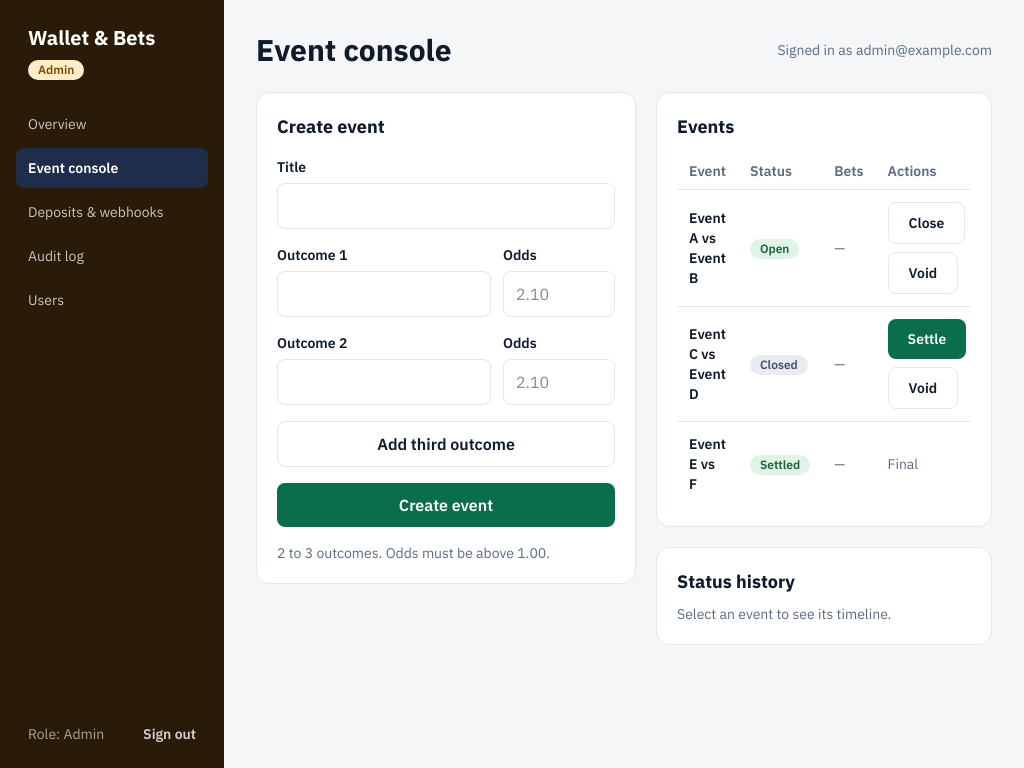
Event console: create event › can remove the third outcome again
The image size is (1024, 768).
Step 1. Click the button "Add third outcome" → click(446, 444), box x1=277 y1=421 x2=615 y2=467
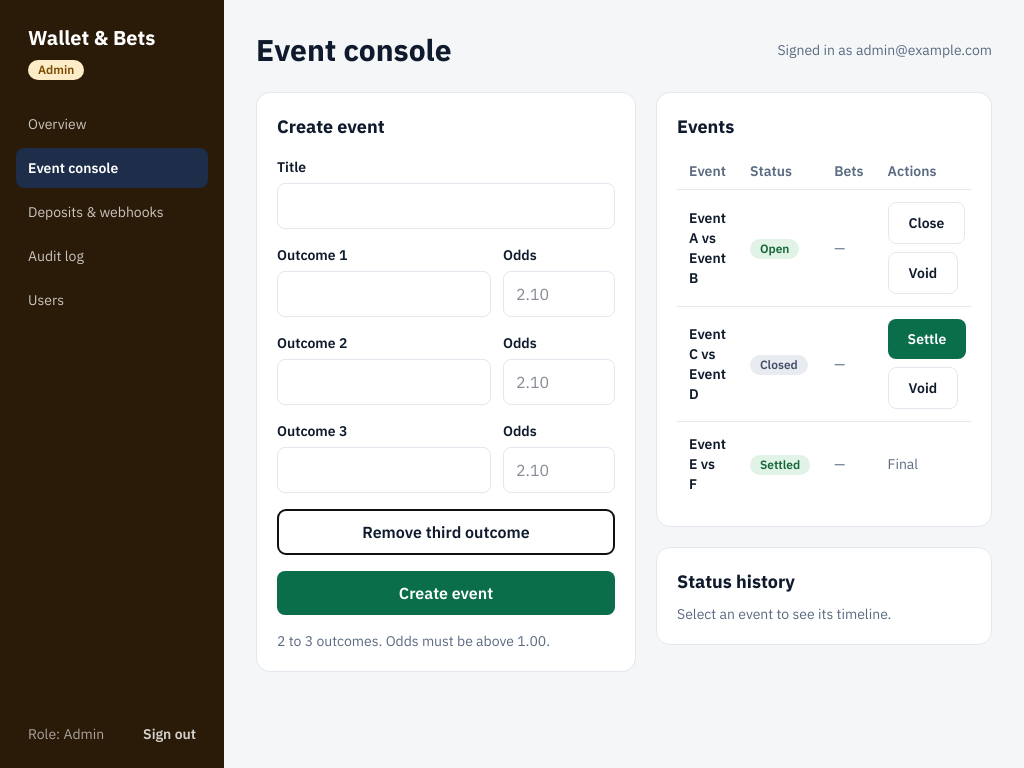
Step 2. Click the button "Remove third outcome" → click(446, 532), box x1=277 y1=509 x2=615 y2=555
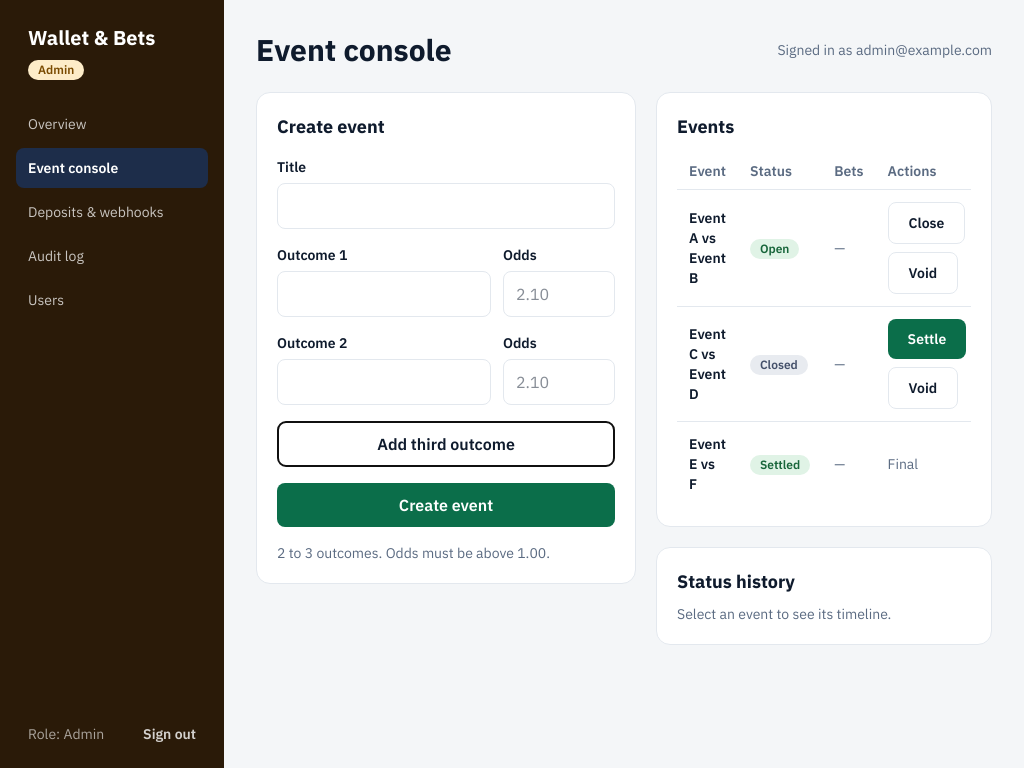
Result: the button "Add third outcome" is shown at x1=277 y1=421 x2=615 y2=467
